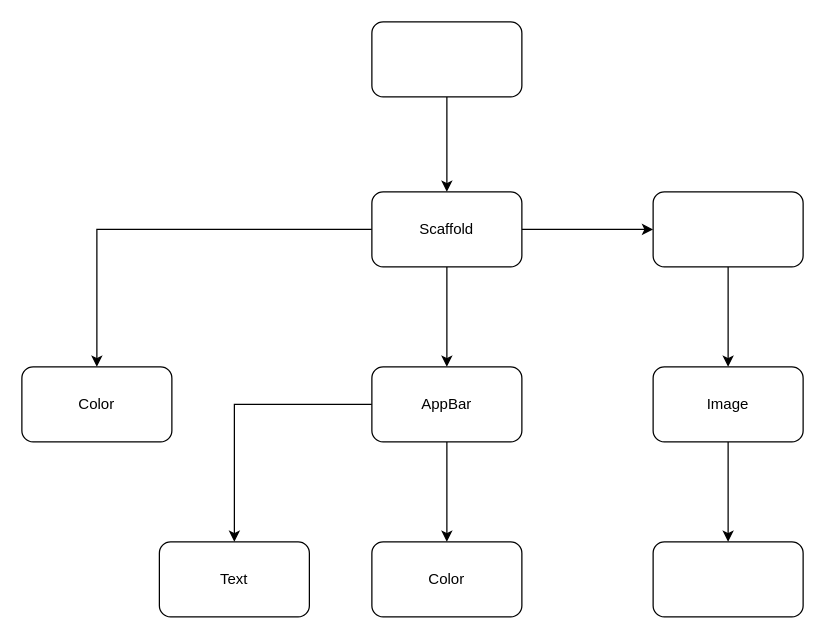
Some shapes in this 825 by 639 pixel diagram are drawn without their labels. Each missing label, with the centre of its shape:
AssetImage: point 727,579
Center: point 727,229
MaterialApp: point 446,59
